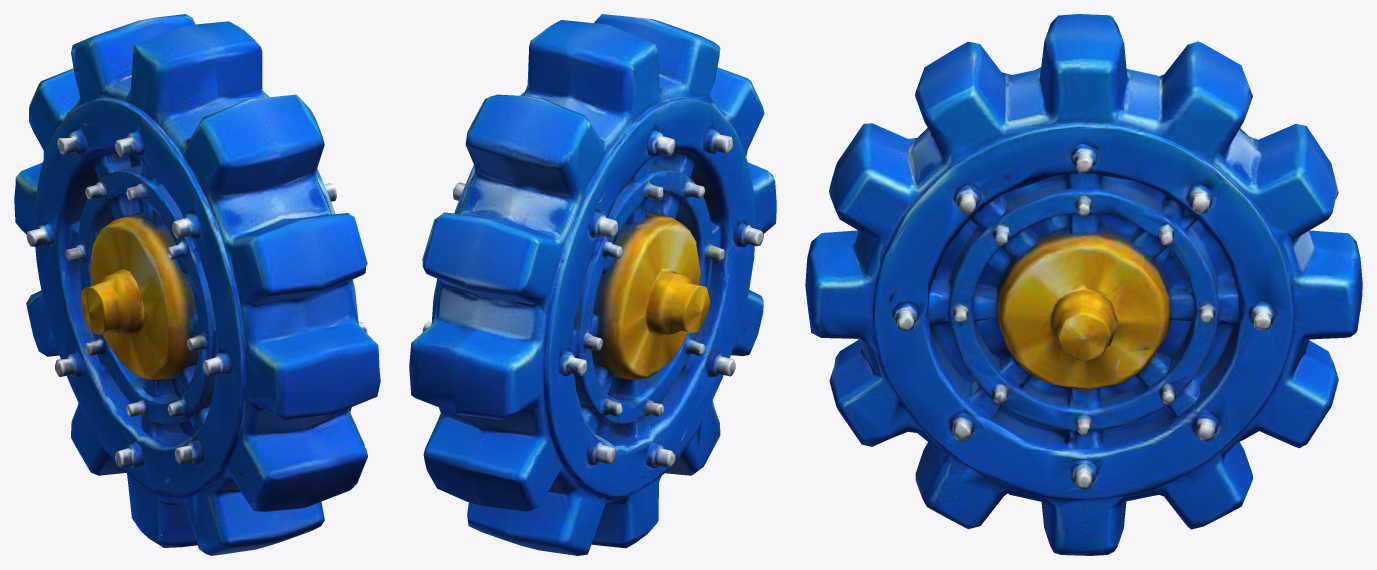
File: blue_jt_tiny_lod1.glb
The picture shows the model from 3 angles, left to right: view 1: azimuth 30°, elevation 25°; view 2: azimuth 150°, elevation 25°; view 3: azimuth 270°, elevation 25°; orthographic projection.
Size of the model in its own units: 0.4431 by 0.9797 by 0.978.
1 material, 1 textured.
